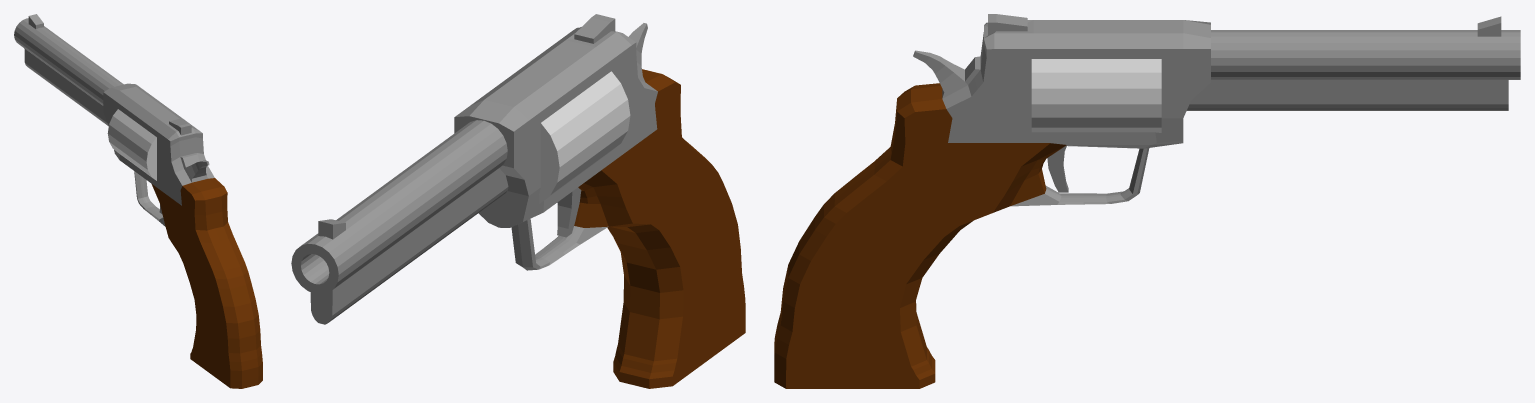
The model's file is Revolver.fbx.
3 views of the same model, side by side, from view 1: azimuth 30°, elevation 25°; view 2: azimuth 150°, elevation 25°; view 3: azimuth 270°, elevation 25° (orthographic). The views are drawn at different scales.
Visible parts, largest first — view 1: Sidearm Revolver; view 2: Sidearm Revolver; view 3: Sidearm Revolver.
Boxes of the visible parts, x1=… form: Sidearm Revolver: x1=14, y1=14, x2=262, y2=388; Sidearm Revolver: x1=291, y1=14, x2=745, y2=388; Sidearm Revolver: x1=774, y1=14, x2=1520, y2=388.
Bounding box in the file's own units: 26.19 × 100 × 190.
